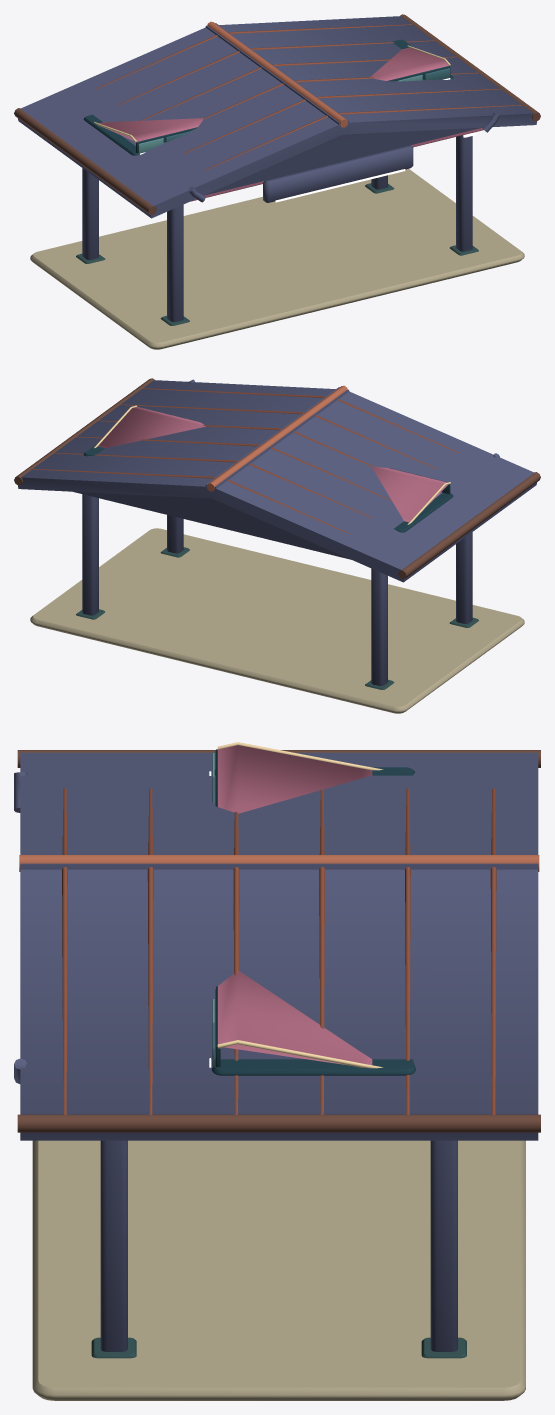
The model's file is japan_fuel.glb.
The picture shows the model from 3 angles, top to bottom: view 1: azimuth 30°, elevation 25°; view 2: azimuth 150°, elevation 25°; view 3: azimuth 270°, elevation 25°; orthographic projection. The views are drawn at different scales.
Visible parts, largest first — view 1: JapanFuel; view 2: JapanFuel; view 3: JapanFuel.
Boxes of the visible parts, x1=… form: JapanFuel: x1=14, y1=14, x2=540, y2=349; JapanFuel: x1=14, y1=378, x2=540, y2=713; JapanFuel: x1=14, y1=742, x2=540, y2=1400.
Size of the model in its own units: 9.69 by 4.48 by 5.79.
